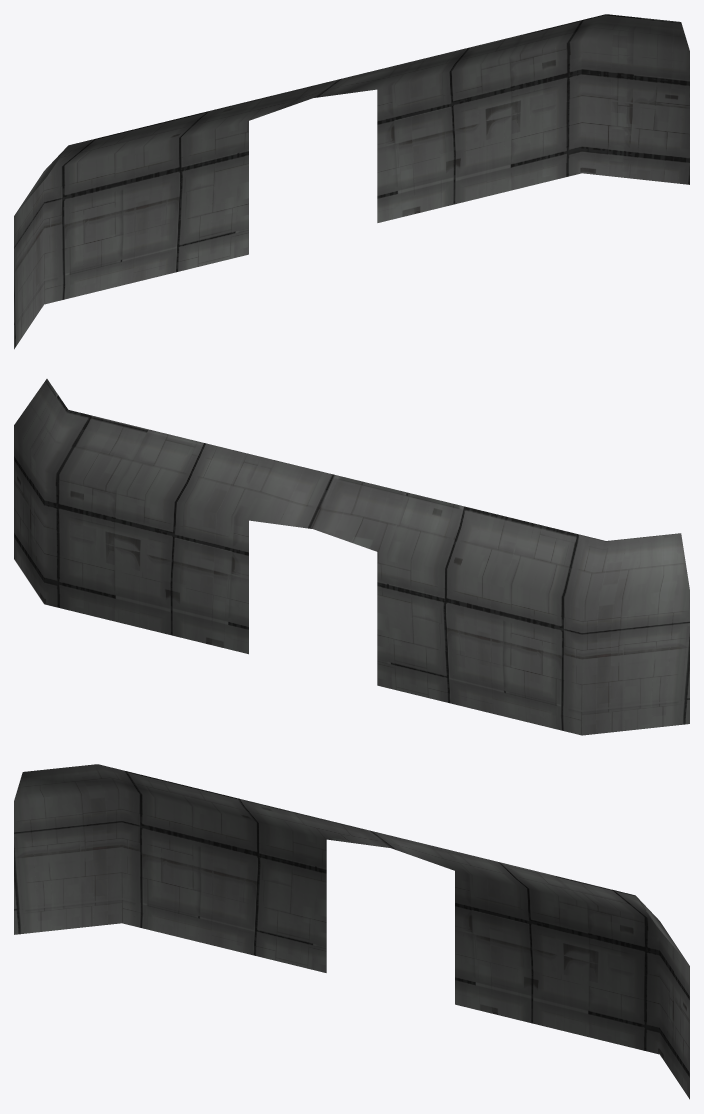
Rendered from Wall_3.obj.
The picture shows the model from 3 angles, top to bottom: view 1: azimuth 30°, elevation 25°; view 2: azimuth 150°, elevation 25°; view 3: azimuth 330°, elevation 25°; orthographic projection.
Parts seen in each view (by area): view 1: ParedPuerta6; view 2: ParedPuerta6; view 3: ParedPuerta6.
Part boxes in pixels (left/top/right/bottom): ParedPuerta6: left=14, top=14, right=689, bottom=349; ParedPuerta6: left=14, top=379, right=689, bottom=735; ParedPuerta6: left=14, top=764, right=689, bottom=1099.
Bounding box in the file's own units: 1000 × 250 × 131.
